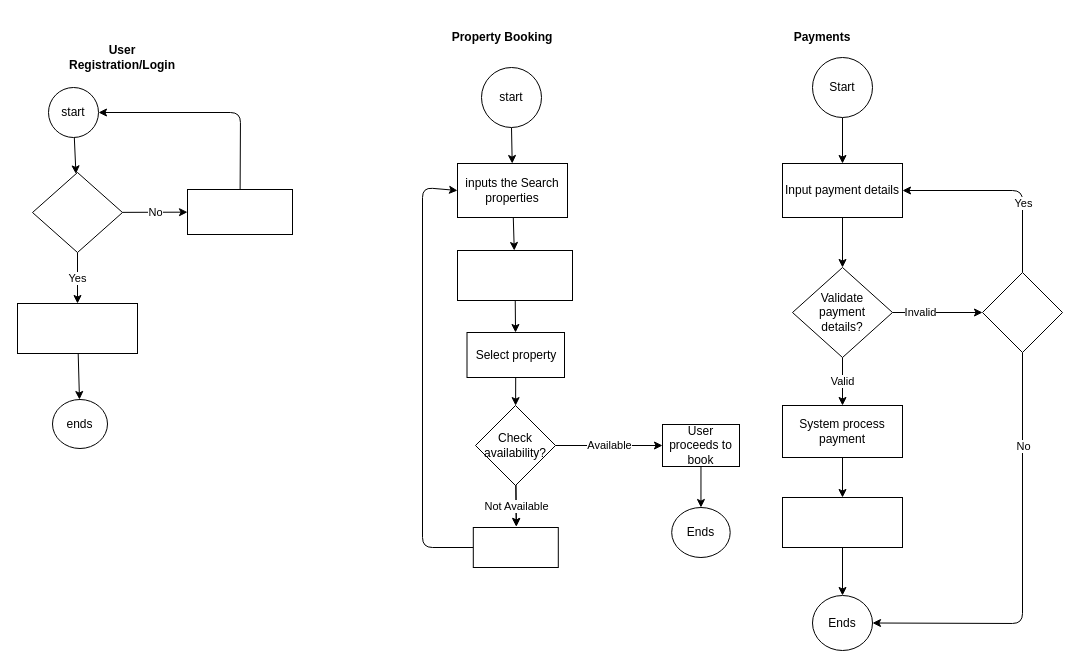
This 1080x668 diagram has some shape labels left out. Each missing label, with the box of its shape:
Authenticate user credentials: (16, 302, 138, 354)
Display error message: (472, 526, 558, 568)
Notify user and host: (782, 496, 902, 548)
System display available properties: (456, 250, 572, 300)
user inputs reg details: (186, 188, 292, 234)
user is registered?: (32, 172, 122, 252)
User proceeds: (982, 272, 1062, 352)
